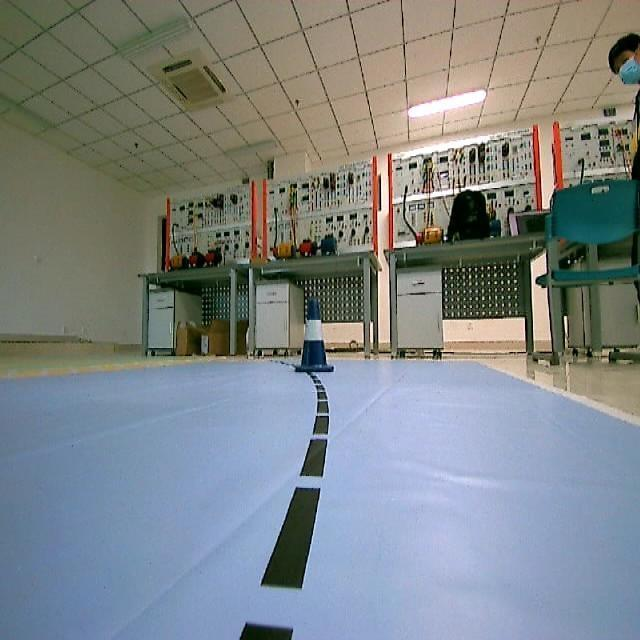obstacle: (286, 295, 342, 380)
